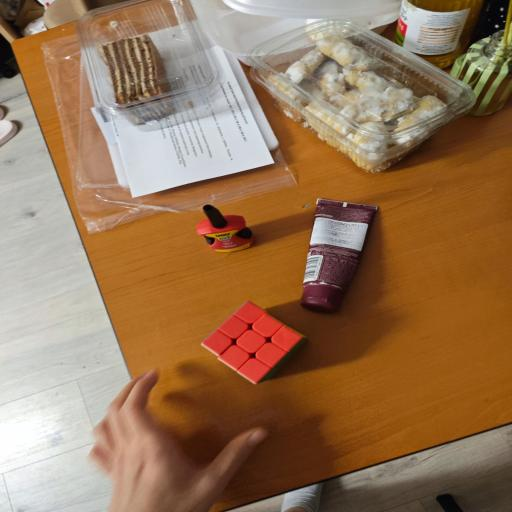Hand Cream: (302, 185, 382, 312)
Rubiks Cube: (203, 302, 306, 386)
Super Glue: (190, 200, 261, 256)
